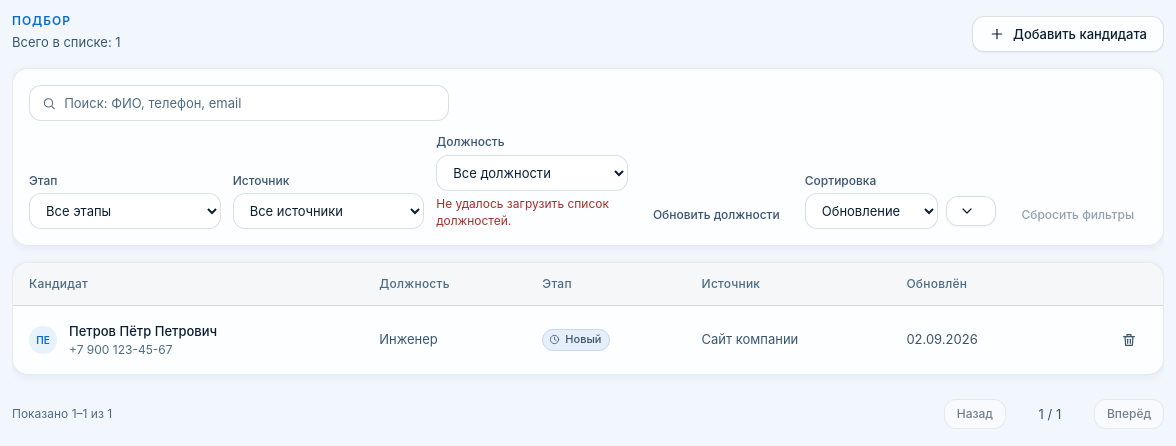
Test: CandidatesListPage › показывает ошибку загрузки справочника должностей с кнопкой повтора
This screenshot has width=1176, height=446.
Check: the text "Не удалось загрузить список должностей." is shown, box [436,195,628,229]
Click the button "Обновить должности" at (716, 214), box [640,199,793,229]
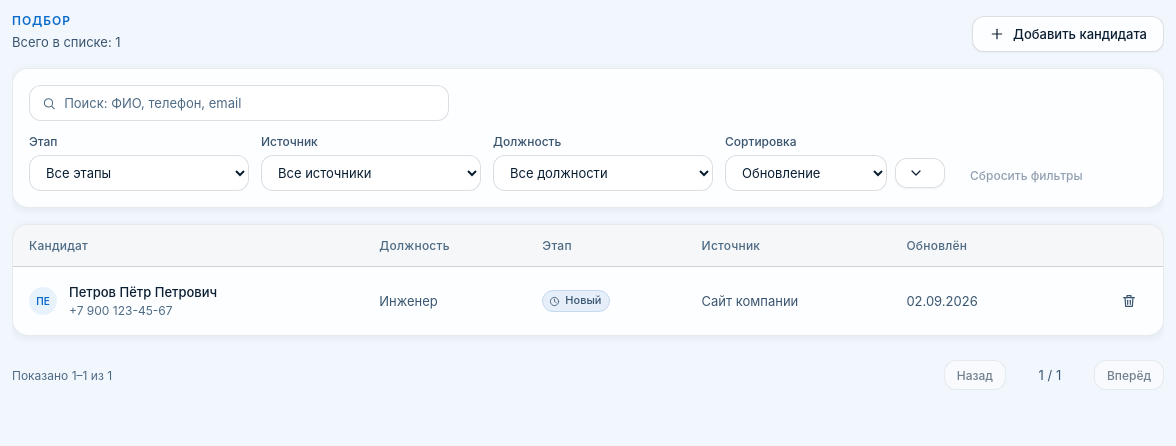
Check: the dropdown labelled "Должность" shows "Все должности", box [493,155,713,191]
Check: the text "Не удалось загрузить список должностей." is gone
